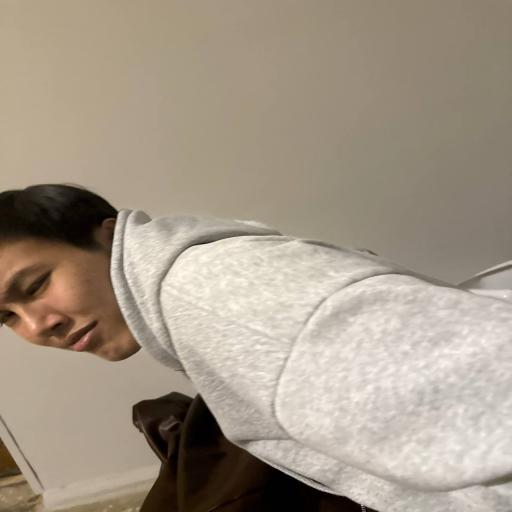laptop: (0, 184, 511, 511)
